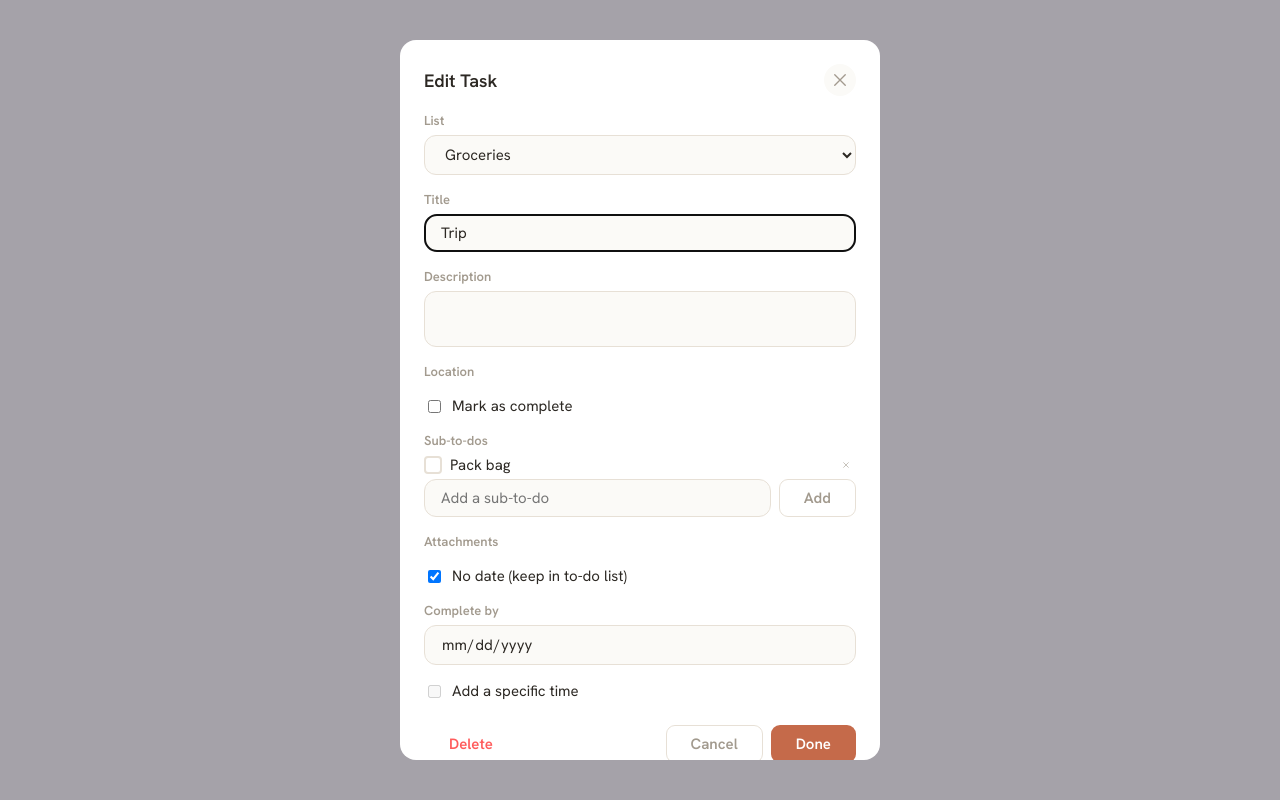
Test: PlanItemModal › renames a sub-to-do in place
This screenshot has width=1280, height=800.
Click the button "Pack bag" at [480, 465], box [450, 455, 510, 475]
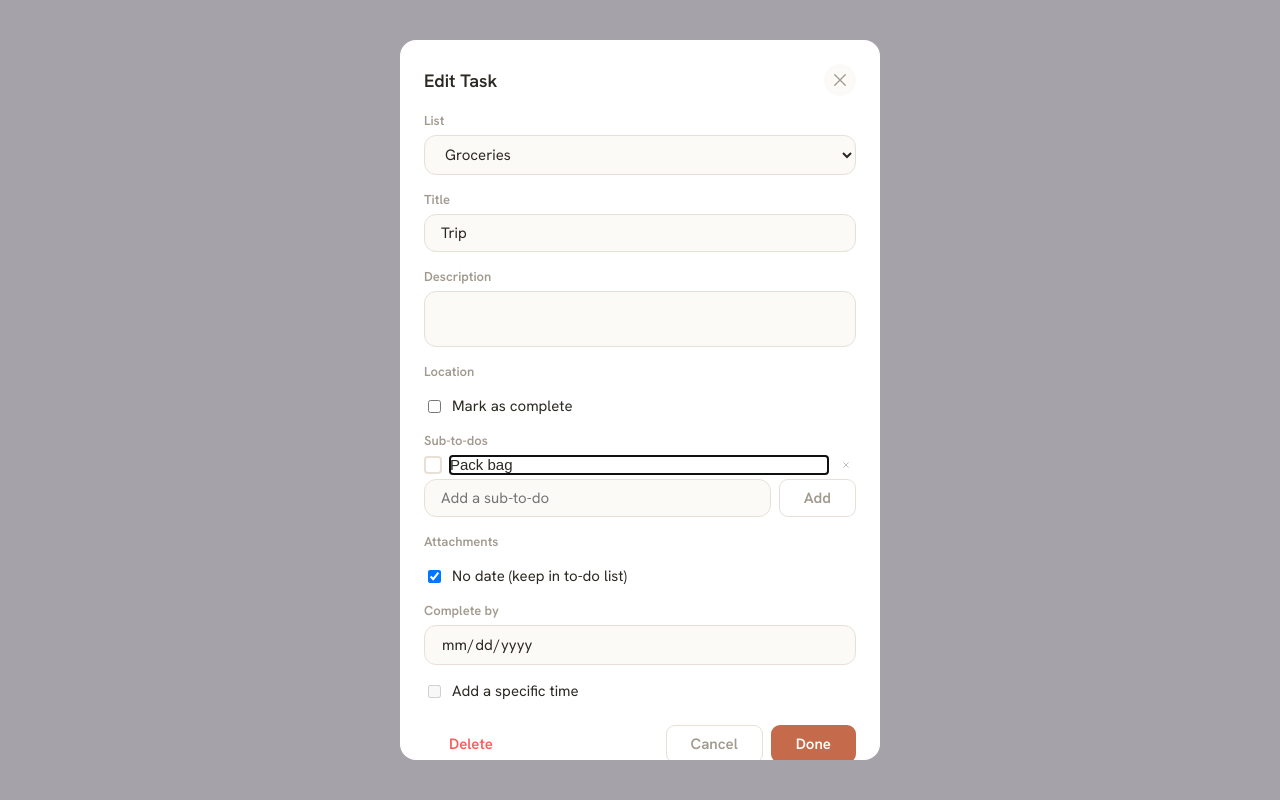
Replace the text in the field named "Edit Pack bag" with "Pack bags" at [639, 465], box [450, 456, 828, 474]
Then press Enter
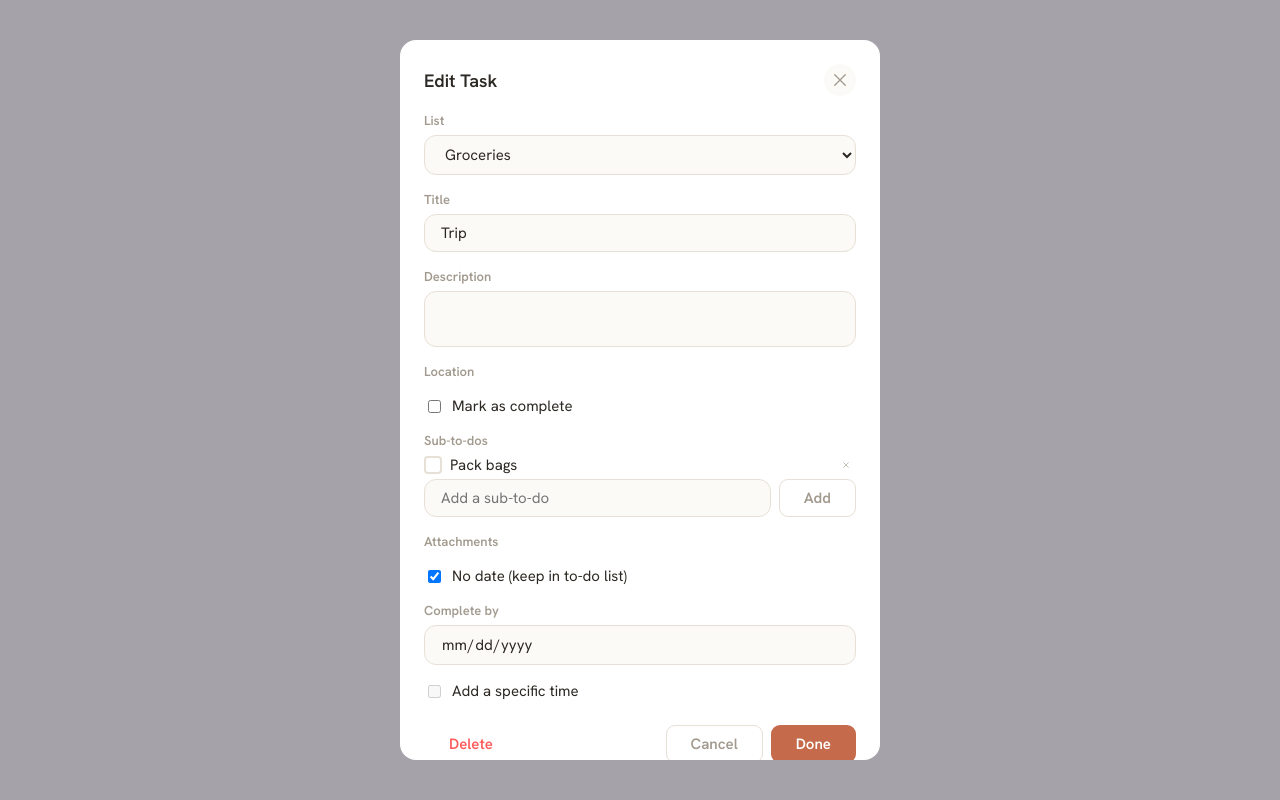
Result: the button "Pack bags" is shown at [450, 455, 517, 475]
